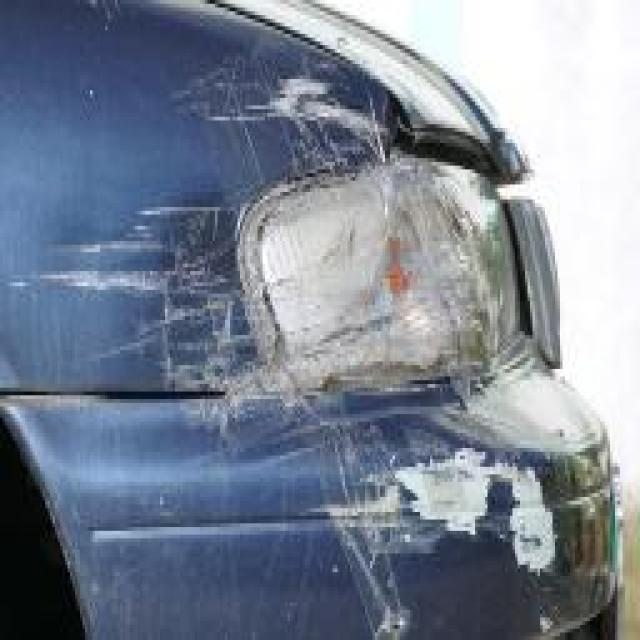Bonnet: (198, 0, 551, 185)
Bumper: (2, 392, 635, 640)
Fender: (0, 0, 399, 395)
